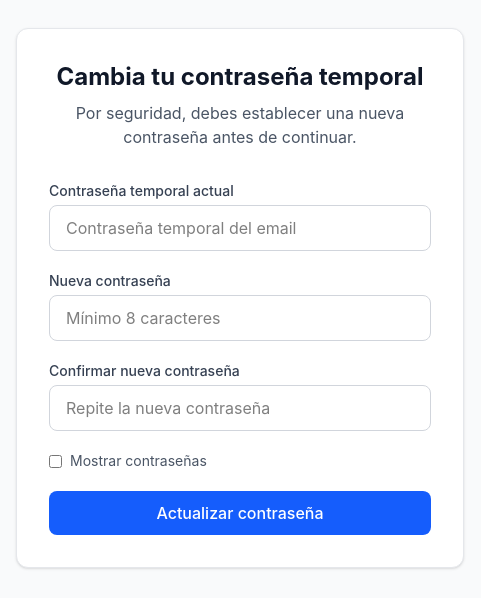
Test case: PasswordChangeRequiredPage › handles 400 error with old_password field
Type "WrongPass" into the password field labelled "Contraseña temporal actual" at (240,228), box [49,205,431,251]
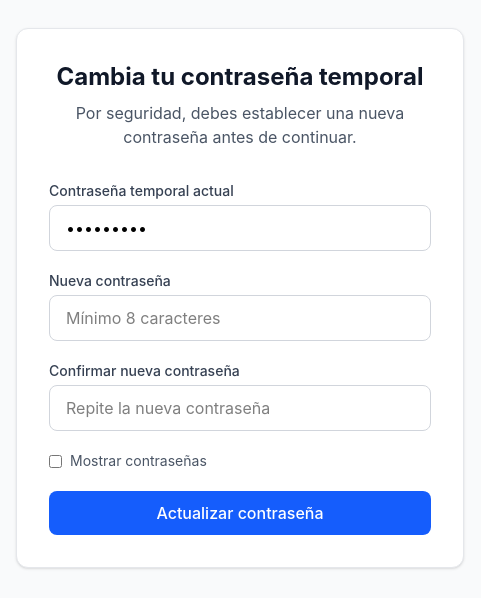
Type "NewPass456" into the password field labelled "Nueva contraseña" at (240,318), box [49,295,431,341]
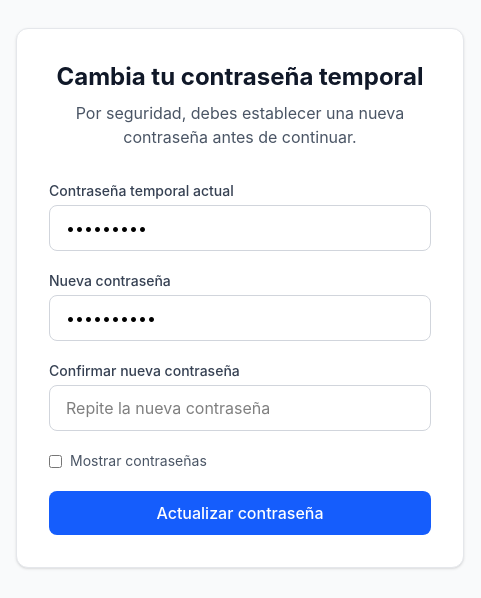
Type "NewPass456" into the password field labelled "Confirmar nueva contraseña" at (240,408), box [49,385,431,431]
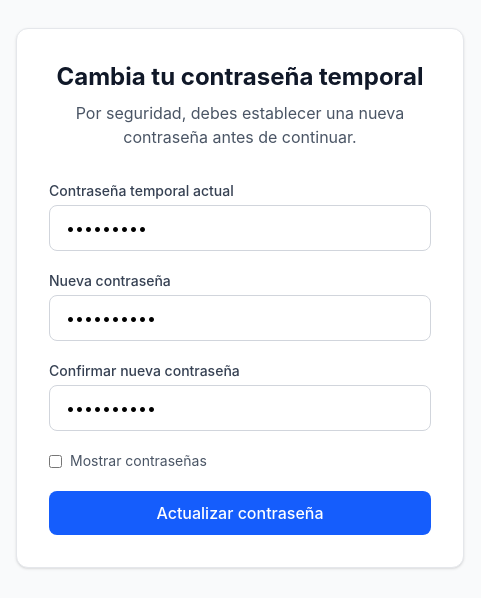
Click the button "Actualizar contraseña" at (240,513), box [49,491,431,535]
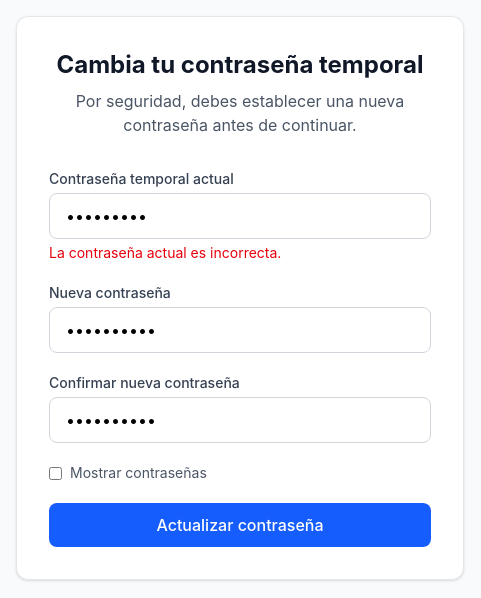
Expected: the text "La contraseña actual es incorrecta." is shown, [49,244,281,261]
